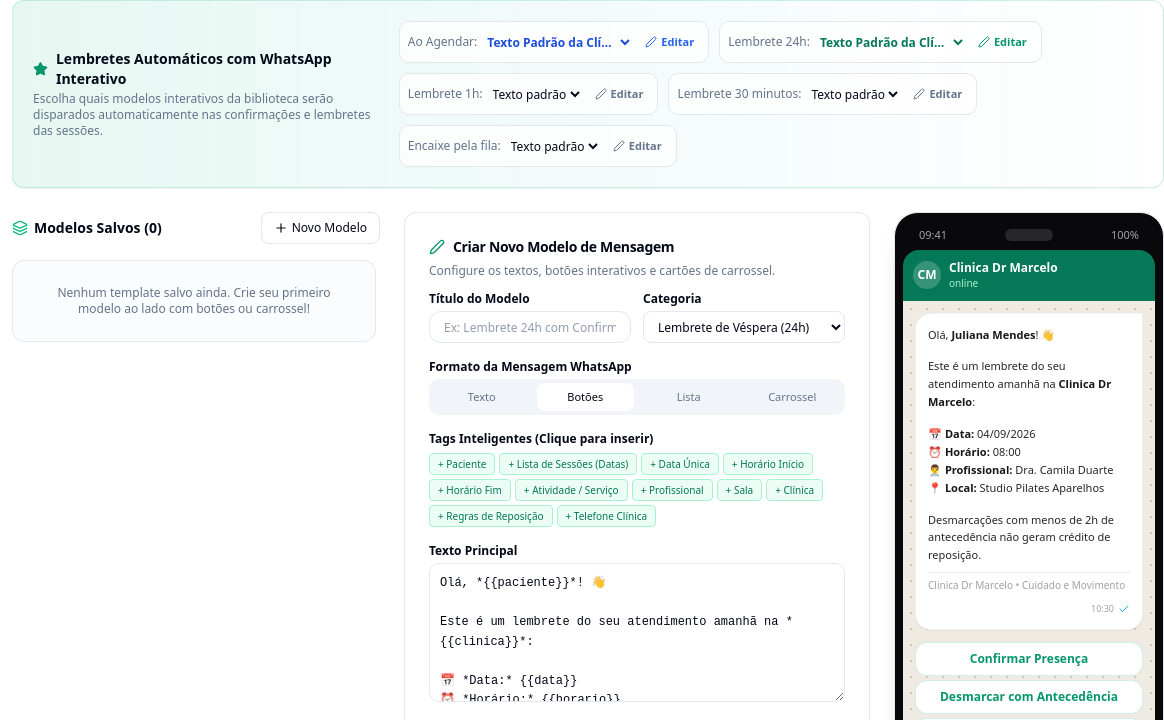
trocar a categoria de um novo modelo carrega o preset correspondente no editor
Select "Lembrete 2h (legado, desativado)" in the dropdown below "Categoria": (744, 327) top-left (643, 311), bottom-right (845, 343)
(page scrolled)
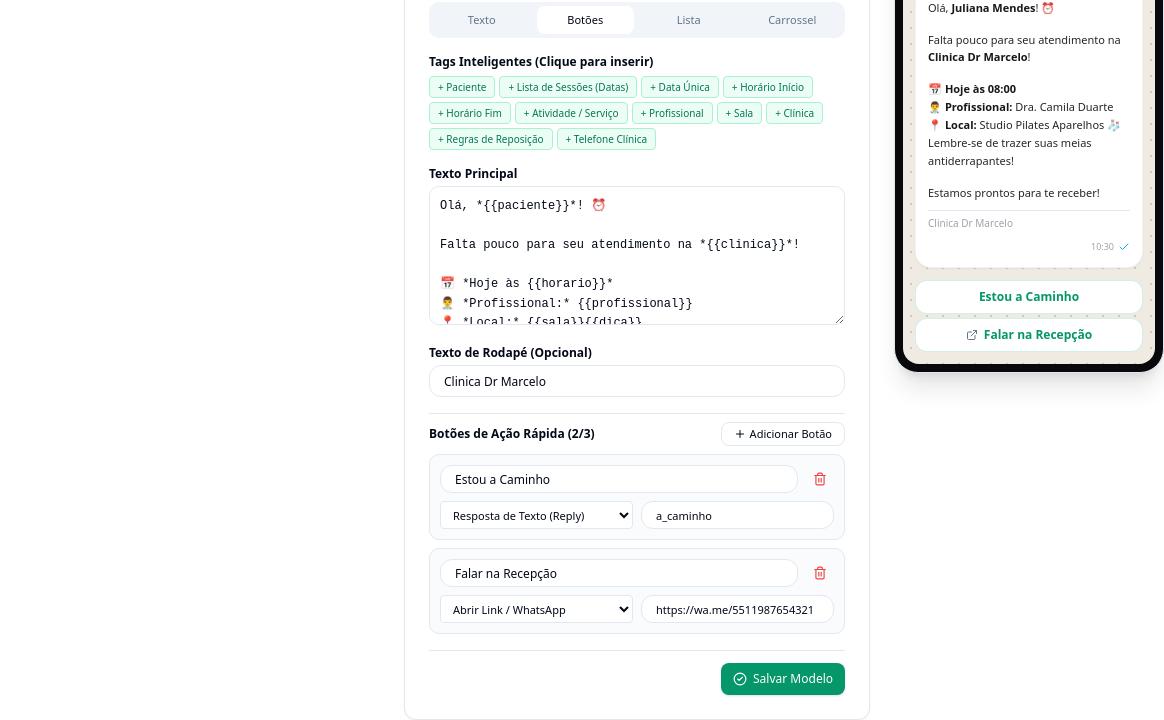
Expected: the text box is shown, top-left (429, 186), bottom-right (845, 325)
Expected: the text "Botões de Ação Rápida (2/3)" is shown, top-left (429, 426), bottom-right (595, 442)
